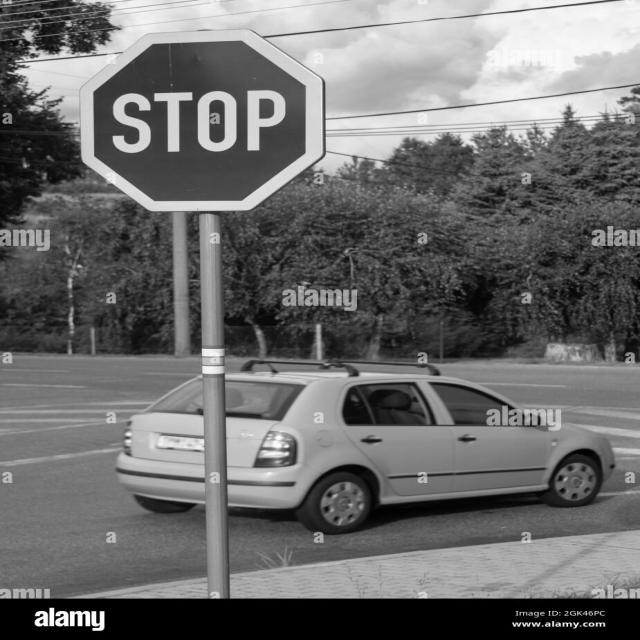Stop-sign: (62, 1, 350, 229)
